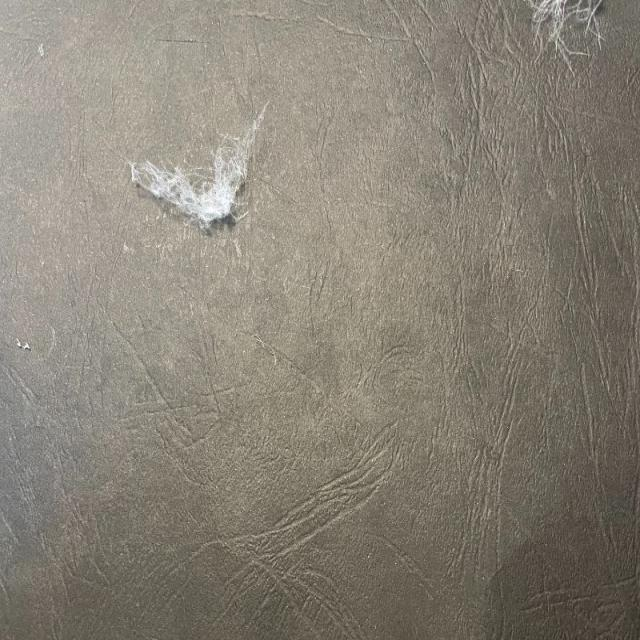feather: (130, 110, 270, 225), (531, 0, 598, 31)
